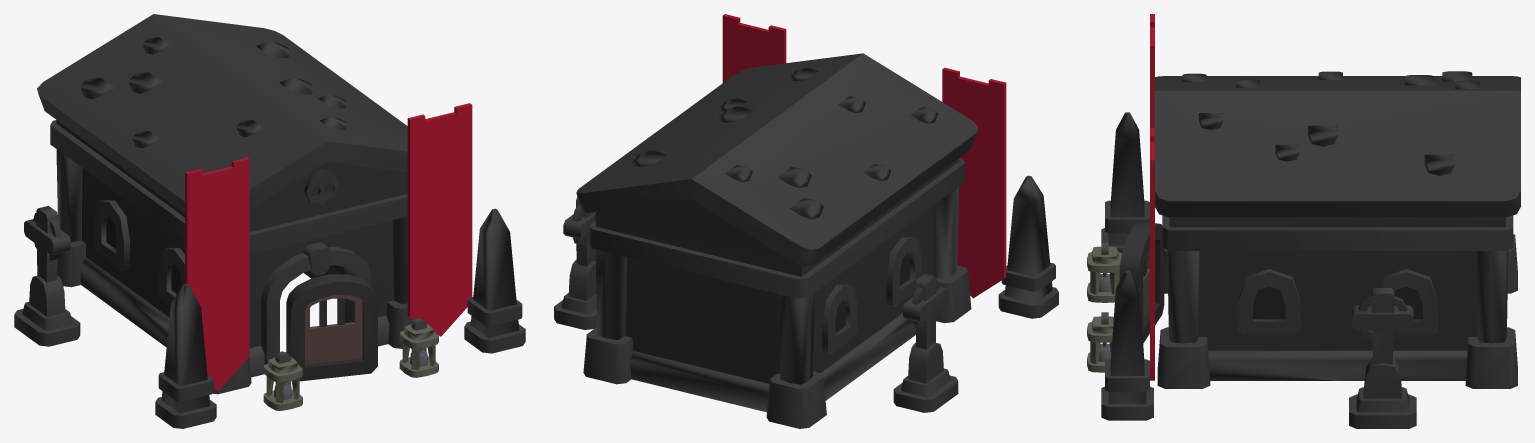
The model's file is crypt_l2.glb.
The picture shows the model from 3 angles, left to right: view 1: azimuth 30°, elevation 25°; view 2: azimuth 150°, elevation 25°; view 3: azimuth 270°, elevation 25°; orthographic projection. The views are drawn at different scales.
Parts seen in each view (by area): view 1: crypt_l2; view 2: crypt_l2; view 3: crypt_l2.
Boxes of the visible parts, <box> form: crypt_l2: <box>14,14,525,428</box>; crypt_l2: <box>554,14,1058,428</box>; crypt_l2: <box>1087,14,1520,428</box>.
Size of the model in its own units: 6.84 by 3.93 by 6.36.
